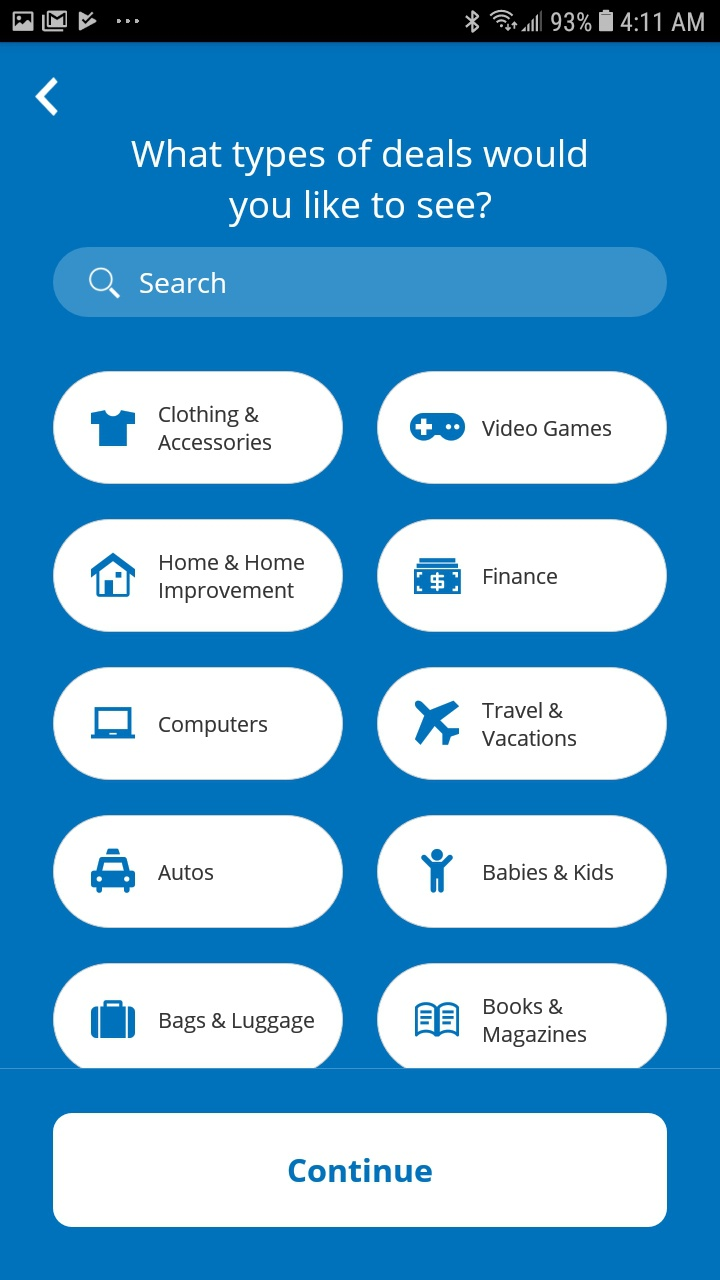EditText: (54, 247, 668, 318)
Icon: (90, 552, 135, 597), (91, 1000, 137, 1039), (413, 557, 461, 594), (414, 1002, 460, 1038), (89, 267, 122, 300), (35, 78, 60, 118)
Image: (414, 699, 460, 746), (91, 848, 137, 894), (409, 412, 466, 442), (91, 410, 137, 447), (420, 848, 454, 894), (92, 706, 137, 739)
Text: (131, 139, 587, 229), (140, 272, 226, 294)
TextButton: (53, 1113, 668, 1228), (53, 666, 345, 781), (376, 518, 668, 633), (52, 517, 344, 632), (377, 814, 668, 929), (53, 370, 344, 485), (377, 371, 668, 486), (377, 667, 668, 781), (53, 815, 343, 929), (53, 962, 345, 1068), (376, 962, 668, 1068)
UpperTaskBar: (1, 1, 720, 43)
